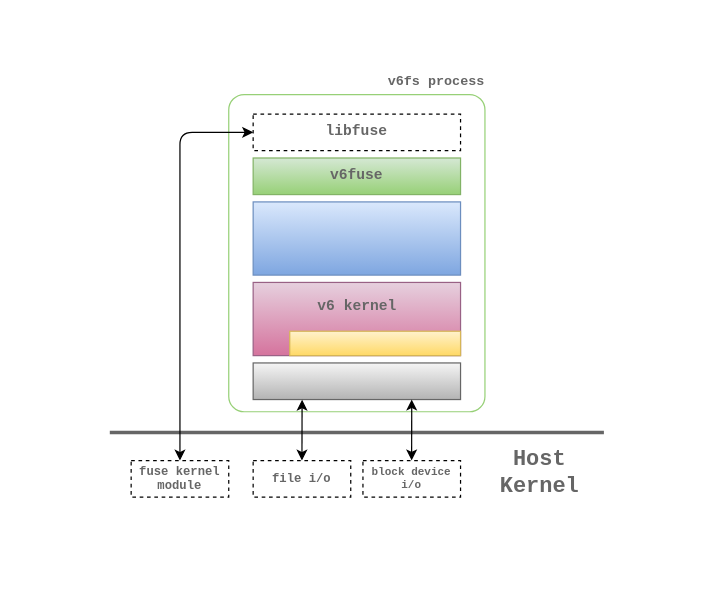
Image size: 714x592. Some labels were removed from this diagram. The centre of each missing label's shape, as x and y in pixels:
"dsk" goes at (356,381).
"v6adapt" goes at (375,343).
"v6fs" goes at (356,238).
